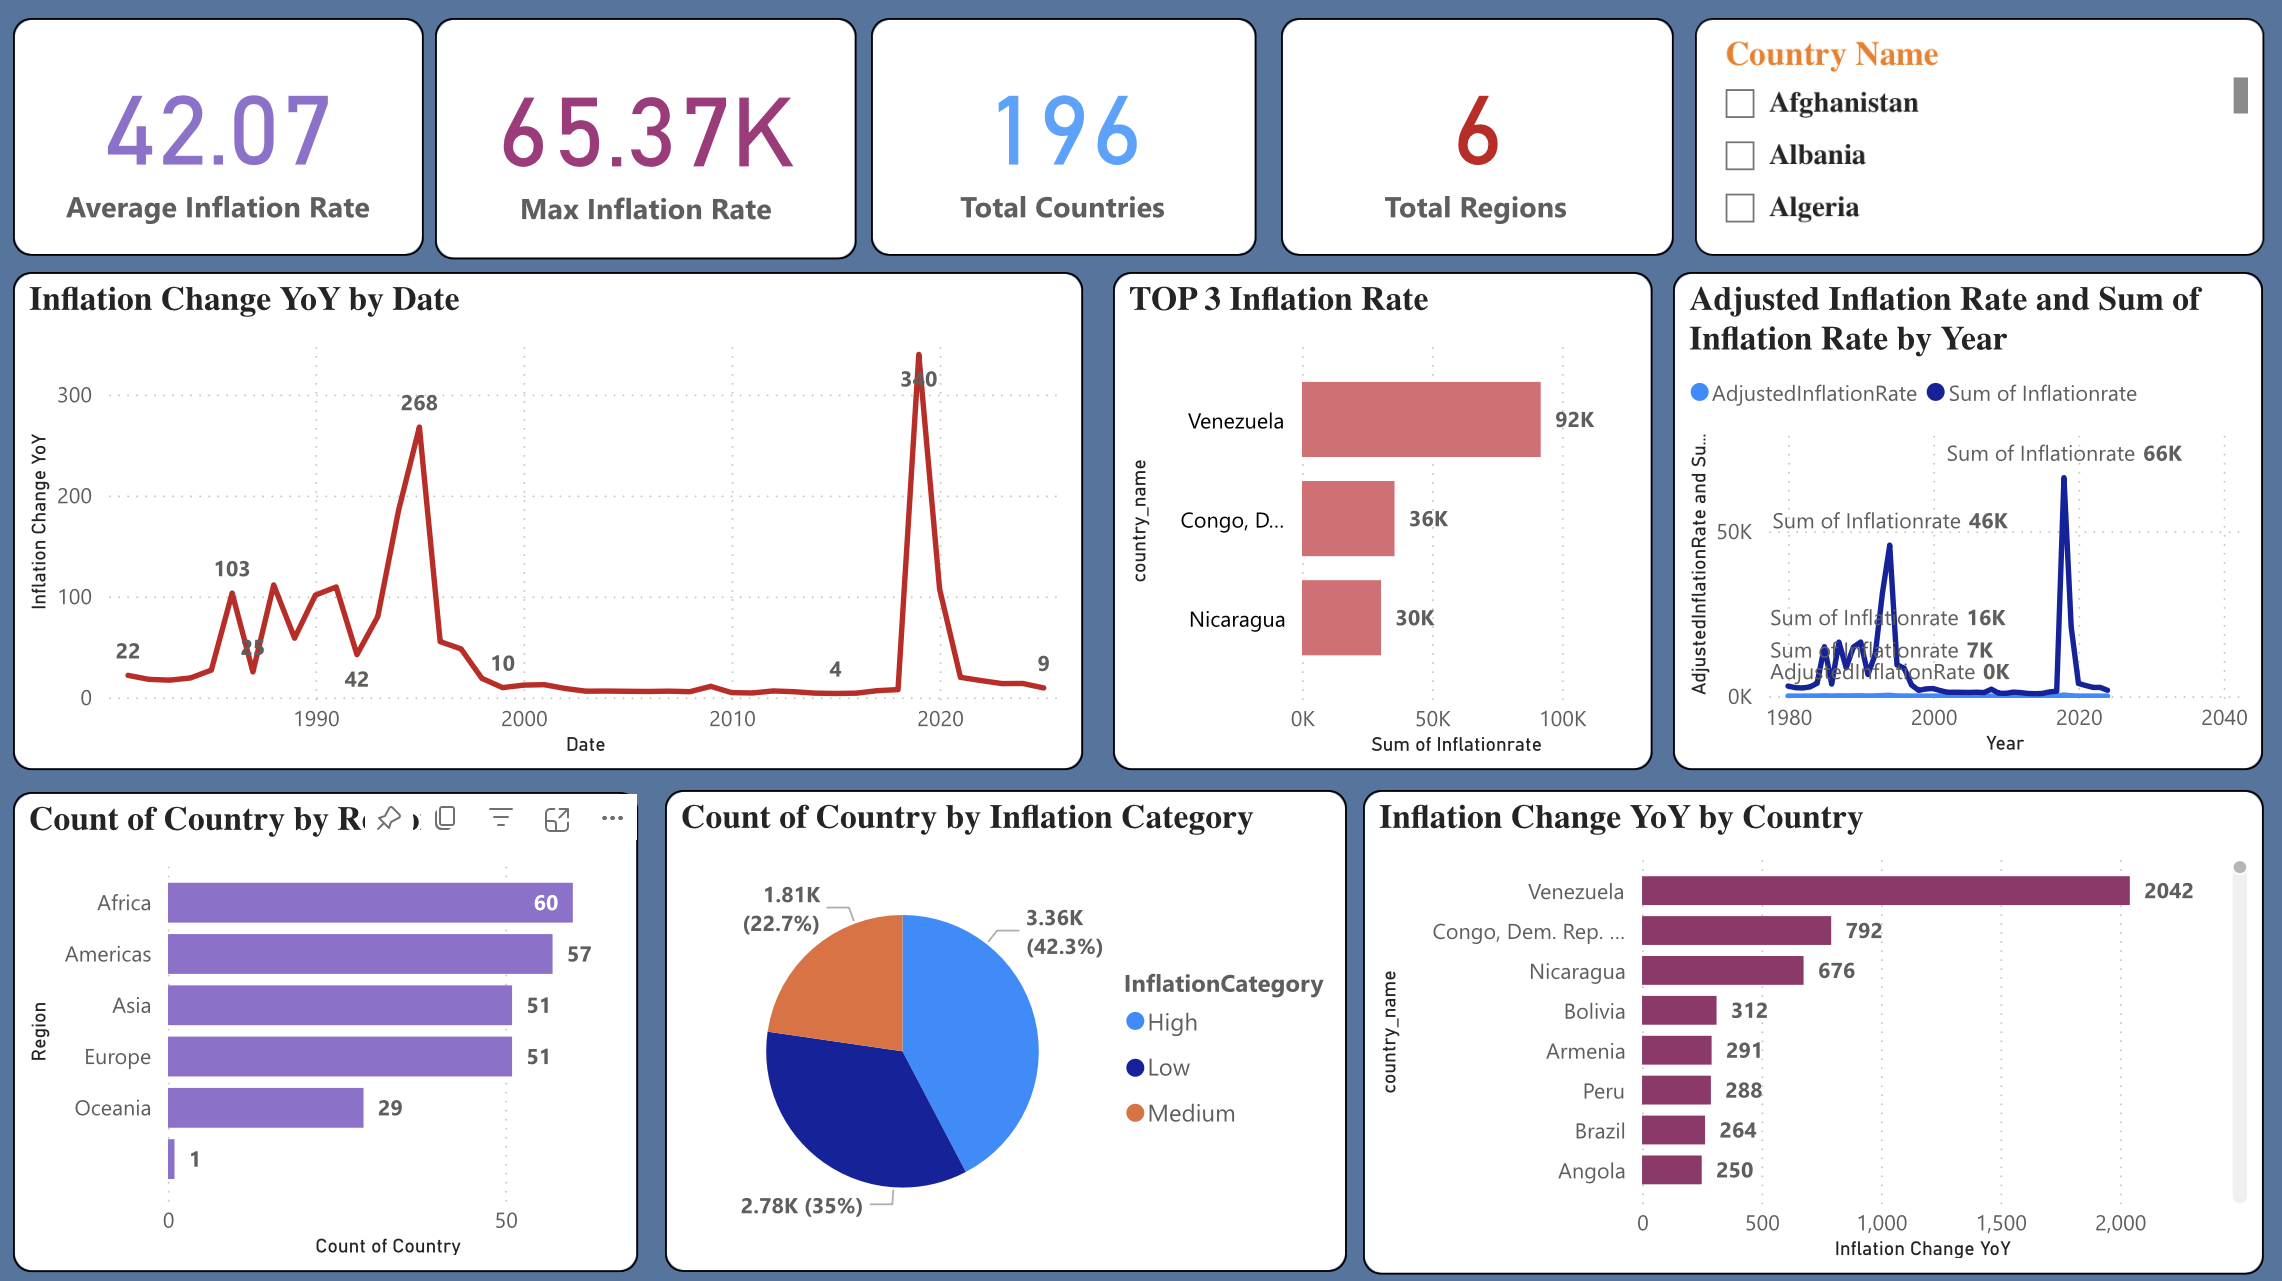

The dashboard page shown, as its layout file describes it:
{"tool":"powerbi","page":{"name":"Page 1","canvas":[1280,720],"ordinal":0},"visuals":[{"type":"card","fields":{"Values":["global_inflation_data.Average Inflation Rate"]},"box":[10,16,228,132],"z":0},{"type":"card","fields":{"Values":["global_inflation_data.Max Inflation Rate"]},"box":[244,16,234,134],"z":1000},{"type":"card","fields":{"Values":["global_inflation_data.Total Countries"]},"box":[486,16,214,132],"z":2000},{"type":"lineChart","fields":{"Category":["Date.Date"],"Y":["global_inflation_data.Inflation Change YoY"]},"box":[10.2,156.8,594.1,276.7],"z":3000},{"type":"clusteredBarChart","fields":{"Category":["continents2.Region"],"Y":["CountNonNull(continents2.Country)"]},"box":[10.2,444.9,346.8,266.5],"z":4000},{"type":"pieChart","title":"Count of Country by Inflation Category","fields":{"Y":["CountNonNull(global_inflation_data.country_name)"],"Category":["global_inflation_data.InflationCategory"]},"box":[372.3,443.7,378.6,267.7],"z":5000},{"type":"slicer","fields":{"Values":["global_inflation_data.country_name"]},"box":[944,16,316,132],"z":6000},{"type":"clusteredBarChart","title":"Inflation Change YoY by Country","fields":{"Y":["global_inflation_data.Inflation Change YoY"],"Category":["global_inflation_data.country_name"]},"box":[759.8,443.7,499.8,269],"z":7000},{"type":"lineChart","title":"Adjusted Inflation Rate and Sum of Inflation Rate by Year","fields":{"Category":["Date.Year"],"Y":["global_inflation_data.AdjustedInflationRate","Sum(global_inflation_data.Inflationrate)"]},"box":[932,156.8,327.6,276.7],"z":8000},{"type":"clusteredBarChart","title":"TOP 3 Inflation Rate","fields":{"Category":["global_inflation_data.country_name"],"Y":["Sum(global_inflation_data.Inflationrate)"]},"box":[620.9,156.8,299.6,276.7],"z":9000},{"type":"card","fields":{"Values":["continents2.Total Regions"]},"box":[714,16,218,132],"z":10000}]}

Visuals, with their boxes in screenshot pixels (x1, y1, x2, y2), scaled from the page's 1280x720 canvas onto the 2282x1281 screenshot:
card - global_inflation_data.Average Inflation Rate: x1=18 y1=28 x2=424 y2=263
card - global_inflation_data.Max Inflation Rate: x1=435 y1=28 x2=852 y2=267
card - global_inflation_data.Total Countries: x1=866 y1=28 x2=1248 y2=263
lineChart - Date.Date x global_inflation_data.Inflation Change YoY: x1=18 y1=279 x2=1077 y2=771
clusteredBarChart - continents2.Region x CountNonNull(continents2.Country): x1=18 y1=792 x2=636 y2=1266
"Count of Country by Inflation Category" pieChart: x1=664 y1=789 x2=1339 y2=1266
slicer - global_inflation_data.country_name: x1=1683 y1=28 x2=2246 y2=263
"Inflation Change YoY by Country" clusteredBarChart: x1=1355 y1=789 x2=2246 y2=1268
"Adjusted Inflation Rate and Sum of Inflation Rate by Year" lineChart: x1=1662 y1=279 x2=2246 y2=771
"TOP 3 Inflation Rate" clusteredBarChart: x1=1107 y1=279 x2=1641 y2=771
card - continents2.Total Regions: x1=1273 y1=28 x2=1662 y2=263
